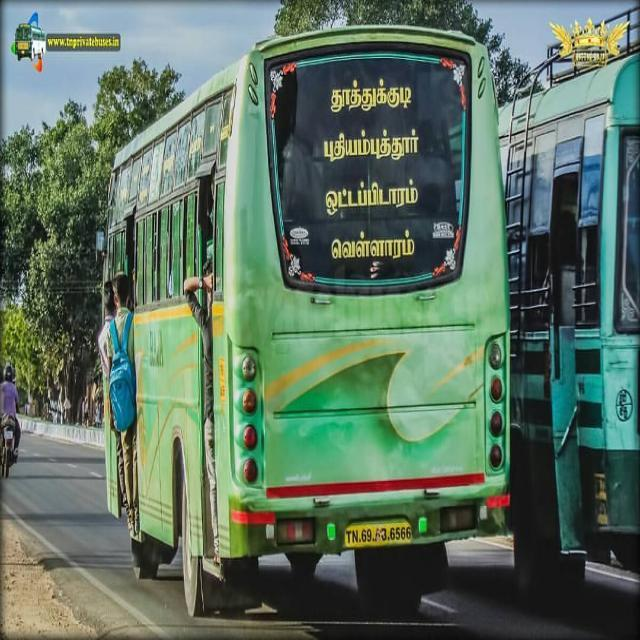Bus: (91, 21, 513, 618), (508, 7, 640, 617)
